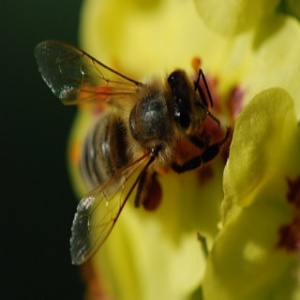bee: (35, 35, 232, 266)
